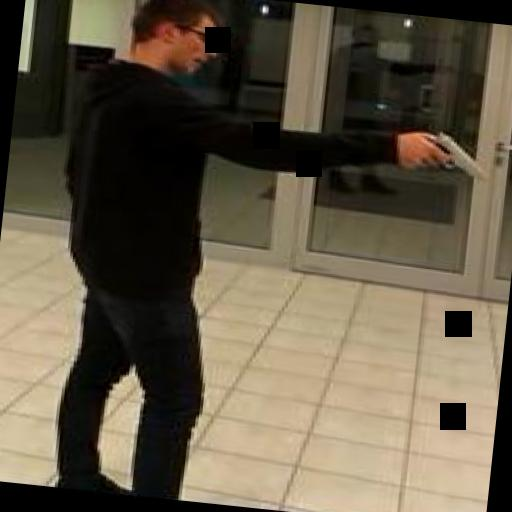Handgun: (406, 124, 488, 179)
